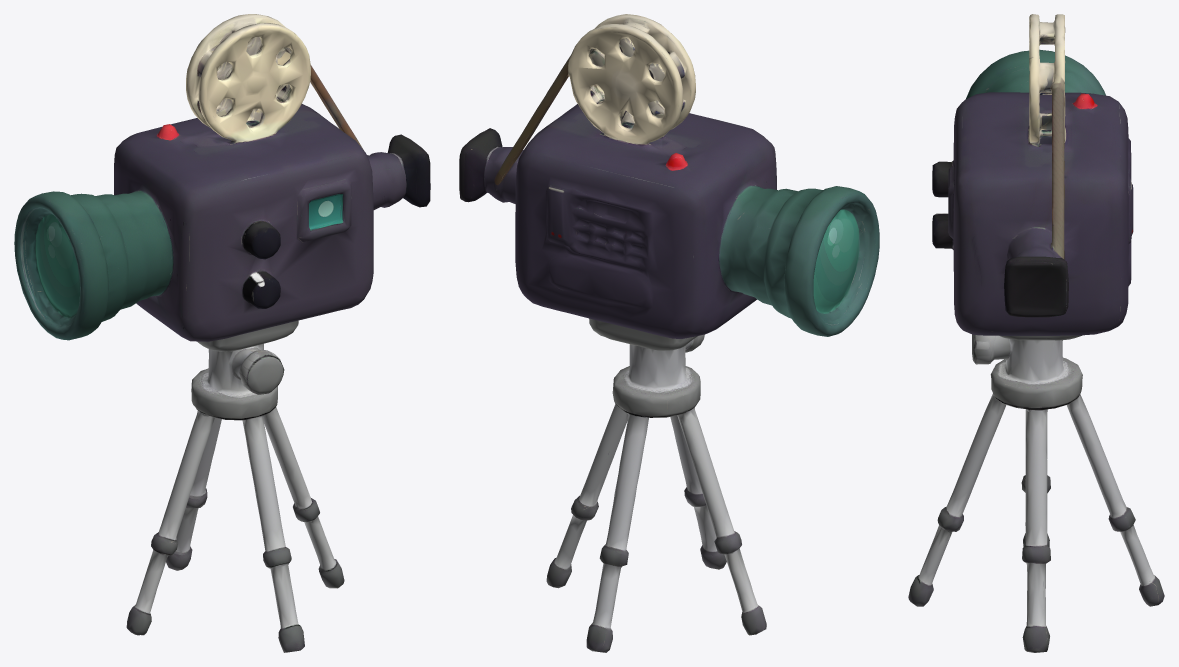
File: film_camera.glb
3 renders of one model, left to right at view 1: azimuth 30°, elevation 25°; view 2: azimuth 150°, elevation 25°; view 3: azimuth 270°, elevation 25°, orthographic. The views are drawn at different scales.
Parts seen in each view (by area): view 1: Mesh_0; view 2: Mesh_0; view 3: Mesh_0.
Boxes of the visible parts, bbox=[...] form: Mesh_0: bbox=[14, 14, 430, 652]; Mesh_0: bbox=[459, 14, 879, 652]; Mesh_0: bbox=[908, 14, 1164, 652].
Size of the model in its own units: 1.27 by 1.91 by 0.749.
Materials: 1 (1 with a texture image).
